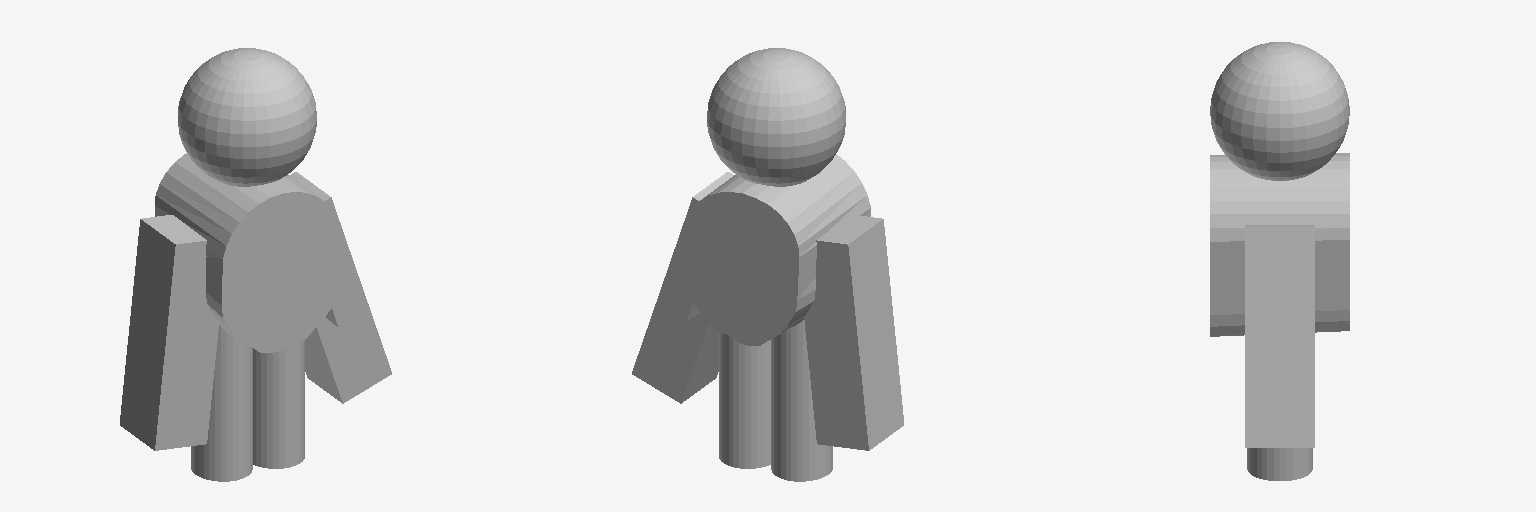
Rendered from Figurine55.obj.
The picture shows the model from 3 angles: view 1: azimuth 30°, elevation 25°; view 2: azimuth 150°, elevation 25°; view 3: azimuth 270°, elevation 25°; orthographic projection.
Parts seen in each view (by area): view 1: Cylinder; view 2: Cylinder; view 3: Cylinder.
Boxes of the visible parts, box(x1,y1,x2,y2) form: Cylinder: box(120, 48, 391, 481); Cylinder: box(632, 48, 903, 481); Cylinder: box(1210, 42, 1349, 480).
Size of the model in its own units: 3.92 by 6.42 by 2.